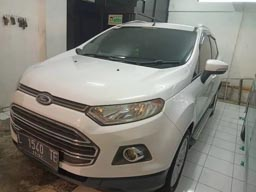plat: (21, 137, 59, 173)
